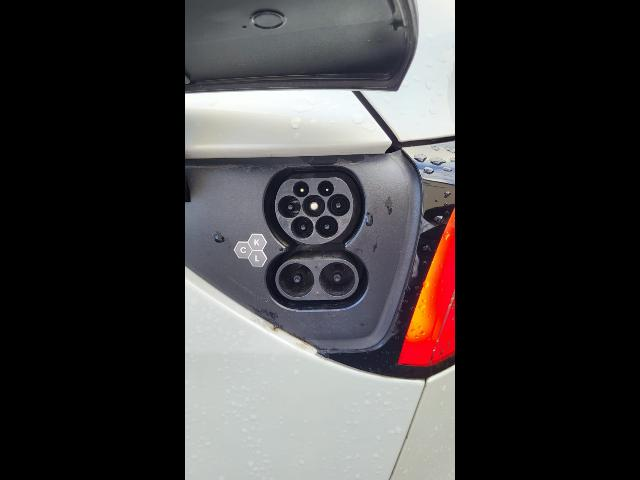inlet: (275, 177, 353, 245)
inlet-above-left: (293, 181, 309, 197)
inlet-above-right: (317, 180, 334, 196)
inlet-below-left: (291, 216, 314, 239)
inlet-below-right: (315, 216, 339, 239)
inlet-circle: (302, 195, 325, 217)
inlet-circle-left: (278, 195, 301, 218)
inlet-circle-right: (327, 194, 350, 217)
inlet-minus: (319, 262, 355, 297)
inlet-plus: (279, 263, 314, 298)
